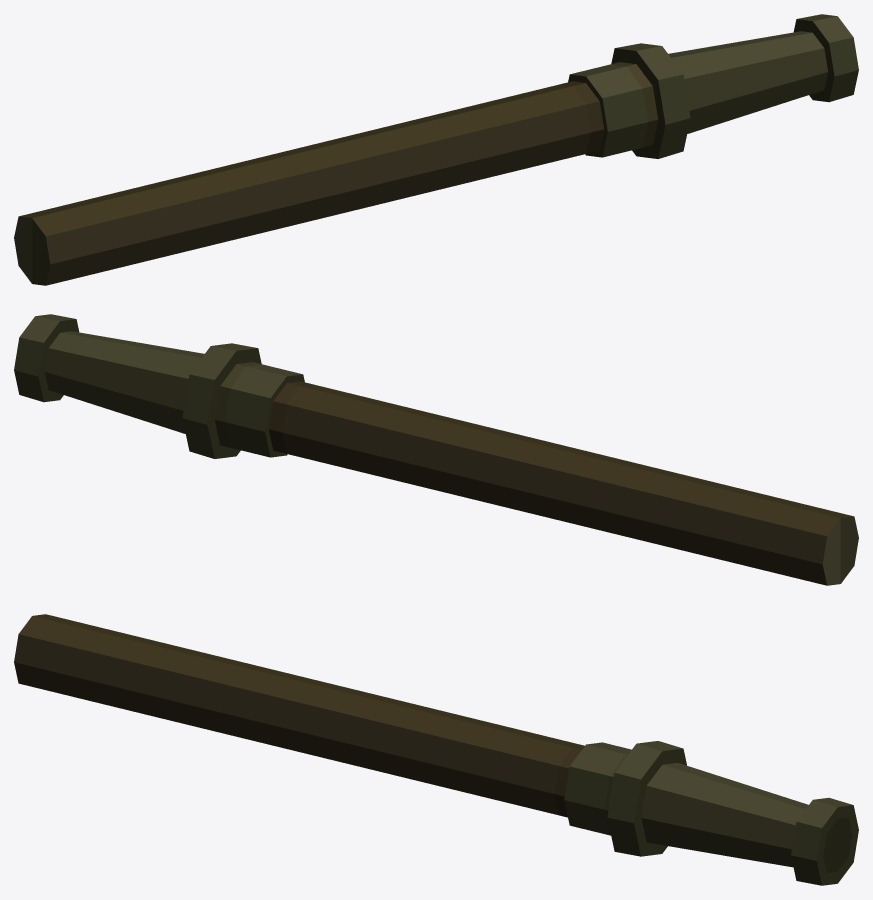
The model's file is nozzle.glb.
3 renders of one model, top to bottom at view 1: azimuth 30°, elevation 25°; view 2: azimuth 150°, elevation 25°; view 3: azimuth 330°, elevation 25°, orthographic.
Visible parts, largest first — view 1: cuboid; view 2: cuboid; view 3: cuboid.
Boxes of the visible parts, x1=… form: cuboid: x1=14, y1=14, x2=858, y2=285; cuboid: x1=14, y1=314, x2=858, y2=585; cuboid: x1=14, y1=614, x2=858, y2=885.
Size of the model in its own units: 1 by 0.125 by 0.125.
Materials: 1 (1 with a texture image).
